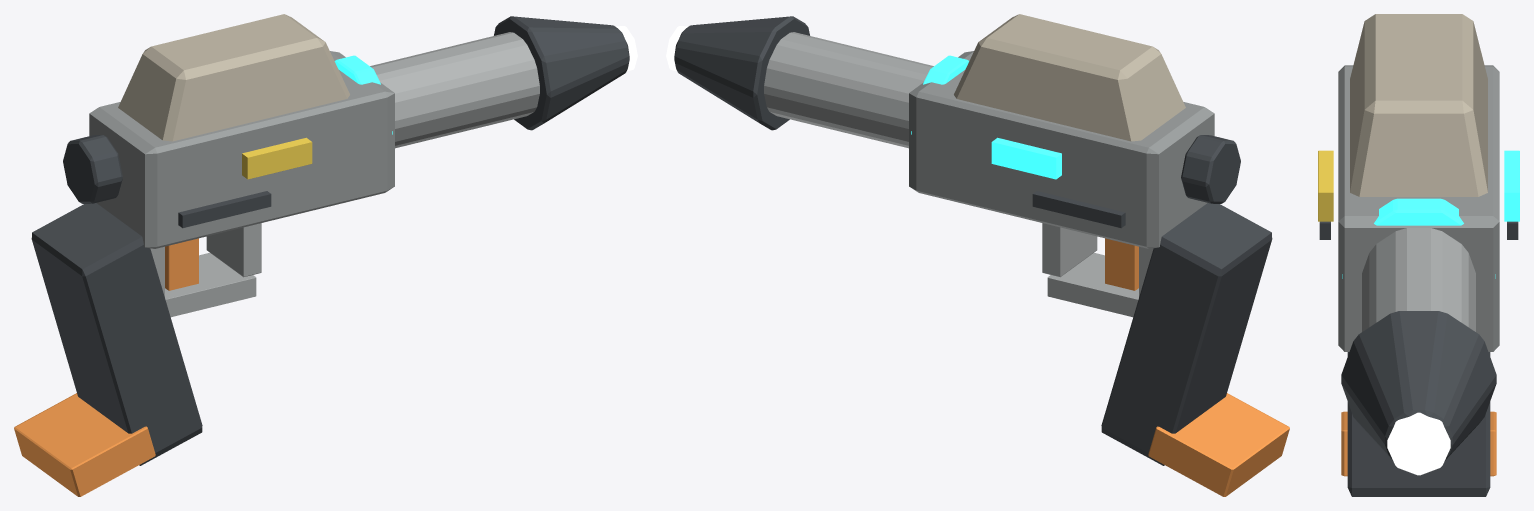
The model's file is repair_tool.glb.
The picture shows the model from 3 angles, left to right: view 1: azimuth 30°, elevation 25°; view 2: azimuth 150°, elevation 25°; view 3: azimuth 270°, elevation 25°; orthographic projection. The views are drawn at different scales.
Parts seen in each view (by area): view 1: RR_RepairTool_Main_Motor_Housing, RR_RepairTool_Angled_Grip, RR_RepairTool_Top_Control_Shroud, RR_RepairTool_Barrel, RR_RepairTool_Orange_Grip_Base, RR_RepairTool_Focused_Nozzle, RR_RepairTool_Back_Cable_Port, RR_RepairTool_Trigger_Guard_Bottom, RR_RepairTool_Trigger_Guard_Front, RR_RepairTool_Left_Mode_Button, RR_RepairTool_Left_Cooling_Vent, RR_RepairTool_Trigger (+1 smaller); view 2: RR_RepairTool_Main_Motor_Housing, RR_RepairTool_Angled_Grip, RR_RepairTool_Top_Control_Shroud, RR_RepairTool_Barrel, RR_RepairTool_Orange_Grip_Base, RR_RepairTool_Focused_Nozzle, RR_RepairTool_Back_Cable_Port, RR_RepairTool_Trigger_Guard_Bottom, RR_RepairTool_Trigger_Guard_Front, RR_RepairTool_Right_Mode_Button, RR_RepairTool_Right_Cooling_Vent, RR_RepairTool_Trigger (+1 smaller); view 3: RR_RepairTool_Top_Control_Shroud, RR_RepairTool_Focused_Nozzle, RR_RepairTool_Main_Motor_Housing, RR_RepairTool_Barrel, RR_RepairTool_Angled_Grip, RR_RepairTool_White_Tip_Light, RR_RepairTool_Cyan_Status_Ring, RR_RepairTool_Left_Mode_Button, RR_RepairTool_Right_Mode_Button, RR_RepairTool_Orange_Grip_Base.
Part boxes in pixels (left/top/right/bottom): RR_RepairTool_Main_Motor_Housing: left=89, top=51, right=394, bottom=248; RR_RepairTool_Angled_Grip: left=31, top=203, right=202, bottom=465; RR_RepairTool_Top_Control_Shroud: left=118, top=14, right=349, bottom=141; RR_RepairTool_Barrel: left=370, top=32, right=539, bottom=148; RR_RepairTool_Orange_Grip_Base: left=14, top=393, right=155, bottom=496; RR_RepairTool_Focused_Nozzle: left=494, top=16, right=629, bottom=130; RR_RepairTool_Back_Cable_Port: left=63, top=135, right=122, bottom=203; RR_RepairTool_Trigger_Guard_Bottom: left=165, top=253, right=256, bottom=317; RR_RepairTool_Trigger_Guard_Front: left=206, top=223, right=261, bottom=277; RR_RepairTool_Left_Mode_Button: left=242, top=137, right=312, bottom=179; RR_RepairTool_Left_Cooling_Vent: left=178, top=191, right=271, bottom=228; RR_RepairTool_Trigger: left=165, top=238, right=198, bottom=290; RR_RepairTool_Main_Motor_Housing: left=909, top=51, right=1214, bottom=248; RR_RepairTool_Angled_Grip: left=1101, top=203, right=1272, bottom=465; RR_RepairTool_Top_Control_Shroud: left=954, top=14, right=1185, bottom=141; RR_RepairTool_Barrel: left=764, top=32, right=933, bottom=148; RR_RepairTool_Orange_Grip_Base: left=1148, top=393, right=1289, bottom=496; RR_RepairTool_Focused_Nozzle: left=674, top=16, right=809, bottom=130; RR_RepairTool_Back_Cable_Port: left=1181, top=135, right=1240, bottom=203; RR_RepairTool_Trigger_Guard_Bottom: left=1047, top=253, right=1138, bottom=317; RR_RepairTool_Trigger_Guard_Front: left=1042, top=223, right=1097, bottom=277; RR_RepairTool_Right_Mode_Button: left=991, top=137, right=1061, bottom=179; RR_RepairTool_Right_Cooling_Vent: left=1032, top=191, right=1125, bottom=228; RR_RepairTool_Trigger: left=1105, top=238, right=1138, bottom=290; RR_RepairTool_Top_Control_Shroud: left=1350, top=14, right=1487, bottom=196; RR_RepairTool_Focused_Nozzle: left=1341, top=311, right=1496, bottom=460; RR_RepairTool_Main_Motor_Housing: left=1338, top=65, right=1499, bottom=351; RR_RepairTool_Barrel: left=1362, top=228, right=1475, bottom=331; RR_RepairTool_Angled_Grip: left=1347, top=352, right=1490, bottom=496; RR_RepairTool_White_Tip_Light: left=1387, top=412, right=1450, bottom=475; RR_RepairTool_Cyan_Status_Ring: left=1342, top=198, right=1495, bottom=278; RR_RepairTool_Left_Mode_Button: left=1318, top=150, right=1333, bottom=221; RR_RepairTool_Right_Mode_Button: left=1504, top=150, right=1519, bottom=221; RR_RepairTool_Orange_Grip_Base: left=1341, top=411, right=1496, bottom=476.
Size of the model in its own units: 1.45 by 0.9227 by 0.325.
